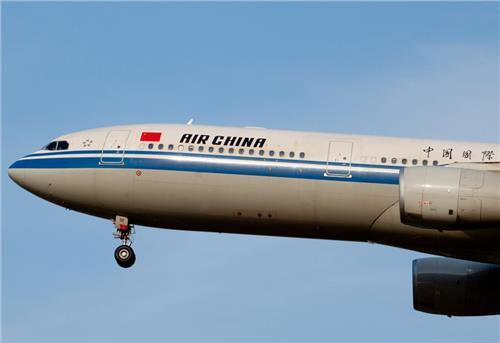airplane: (6, 121, 500, 273)
